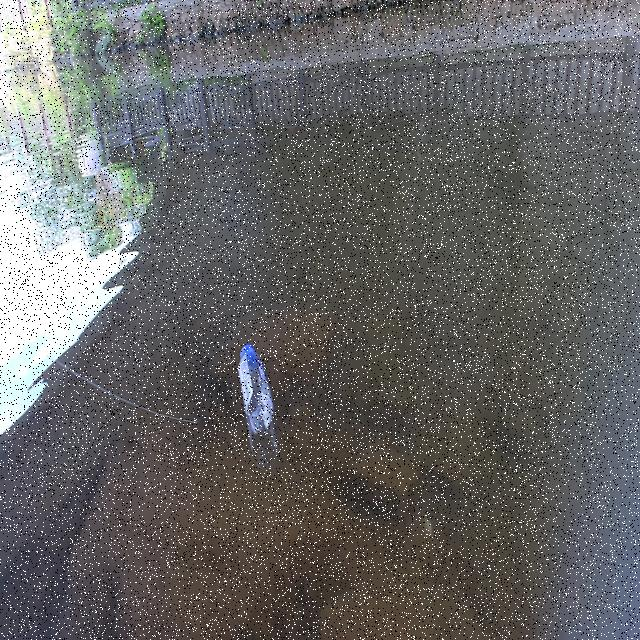Bottle: (237, 338, 274, 432)
